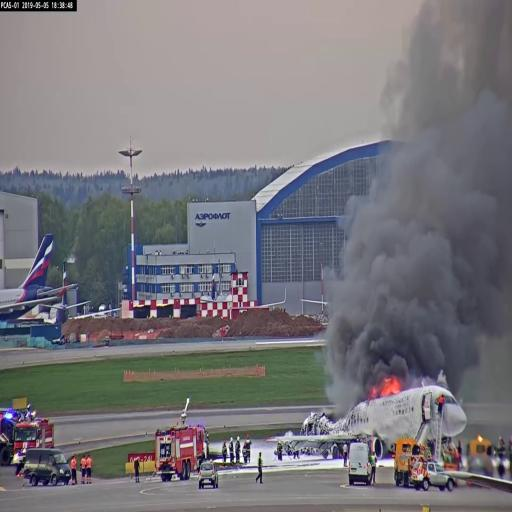fire: (378, 375, 398, 395)
smoke: (336, 192, 512, 376), (389, 102, 511, 366)
